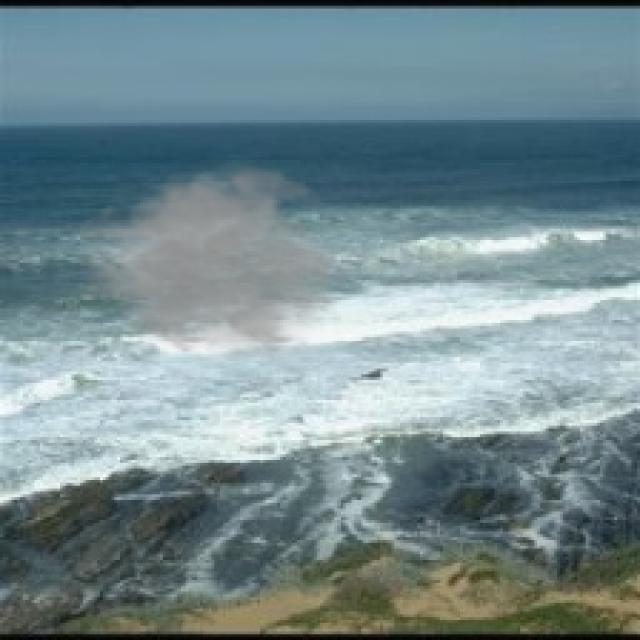smoke: (71, 151, 352, 363)
